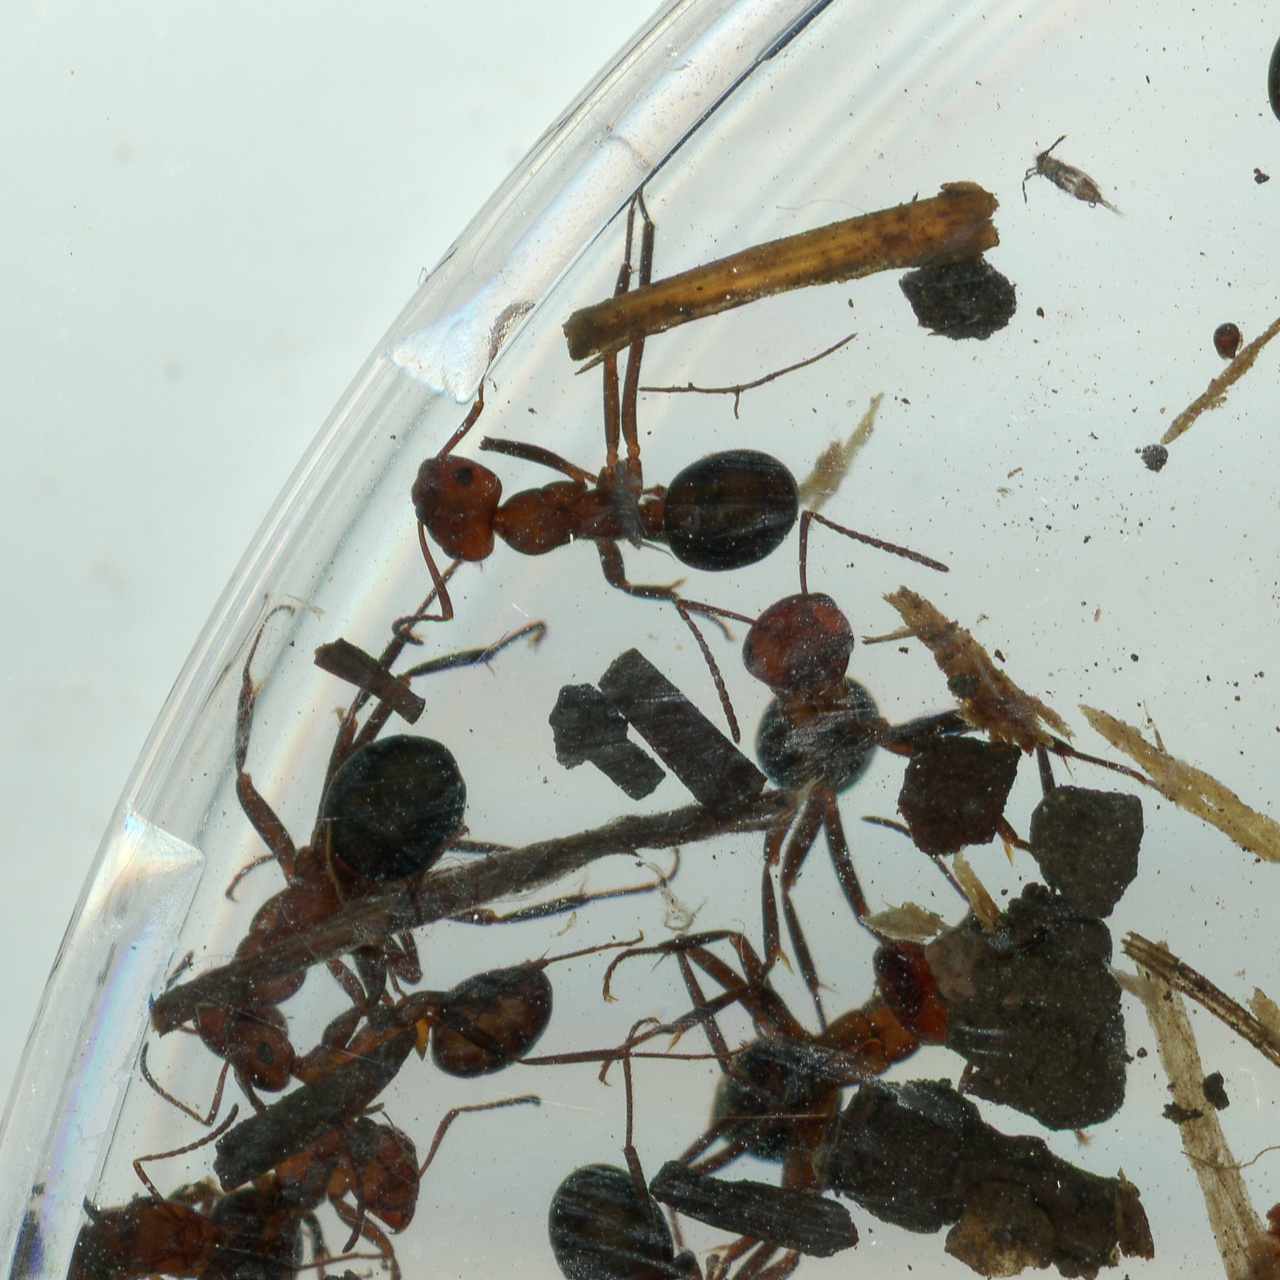arthropod: (61, 479, 768, 1264), (386, 436, 1149, 1159), (386, 175, 804, 649), (384, 987, 974, 1280), (592, 801, 1002, 1198), (135, 915, 669, 1131), (39, 1178, 804, 1280), (246, 1087, 559, 1280), (48, 1108, 335, 1280), (1003, 116, 1157, 259), (1210, 320, 1247, 362)
